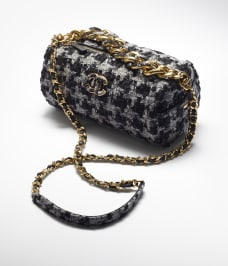channel: (36, 22, 222, 160), (74, 117, 164, 197), (76, 20, 169, 75), (80, 66, 102, 100)
